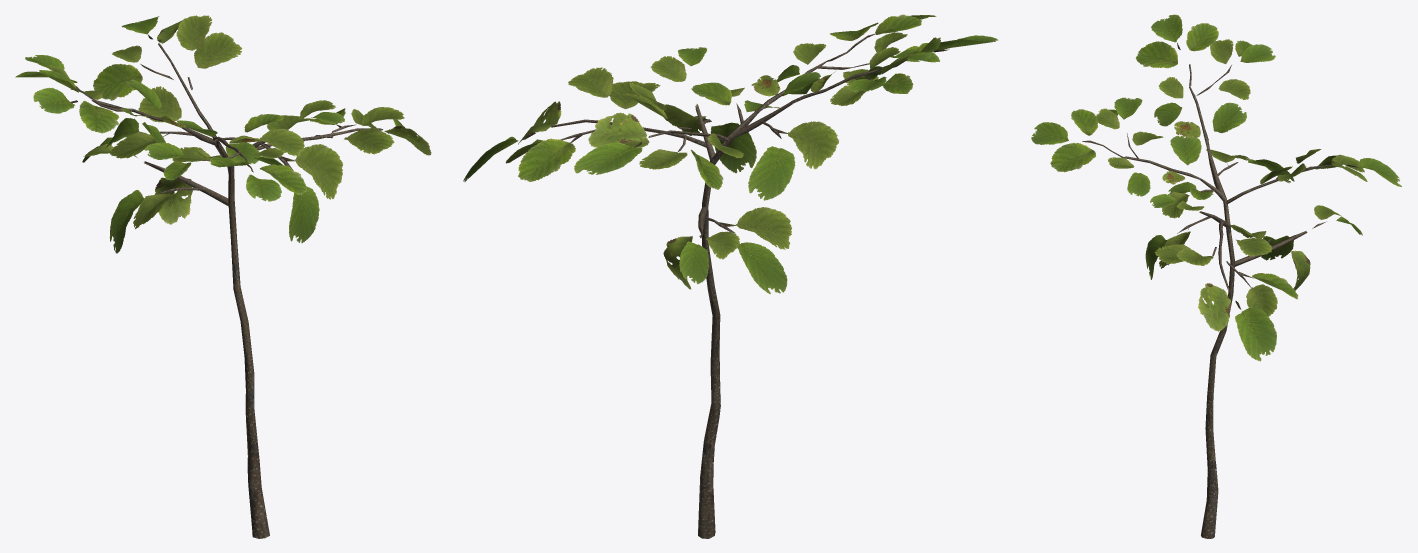
The model's file is SM_BlackAlder_Sapling_01.gltf.
3 views of the same model, side by side, from view 1: azimuth 30°, elevation 25°; view 2: azimuth 150°, elevation 25°; view 3: azimuth 270°, elevation 25° (orthographic). The views are drawn at different scales.
Visible parts, largest first — view 1: SM_BlackAlder_Sapling_01; view 2: SM_BlackAlder_Sapling_01; view 3: SM_BlackAlder_Sapling_01.
Boxes of the visible parts, box(x1,y1,x2,y2) form: SM_BlackAlder_Sapling_01: box(15, 15, 431, 538); SM_BlackAlder_Sapling_01: box(463, 14, 998, 538); SM_BlackAlder_Sapling_01: box(1031, 14, 1401, 538).
Bounding box in the file's own units: 0.8928 × 0.9835 × 0.7819.
1 material, 1 textured.
